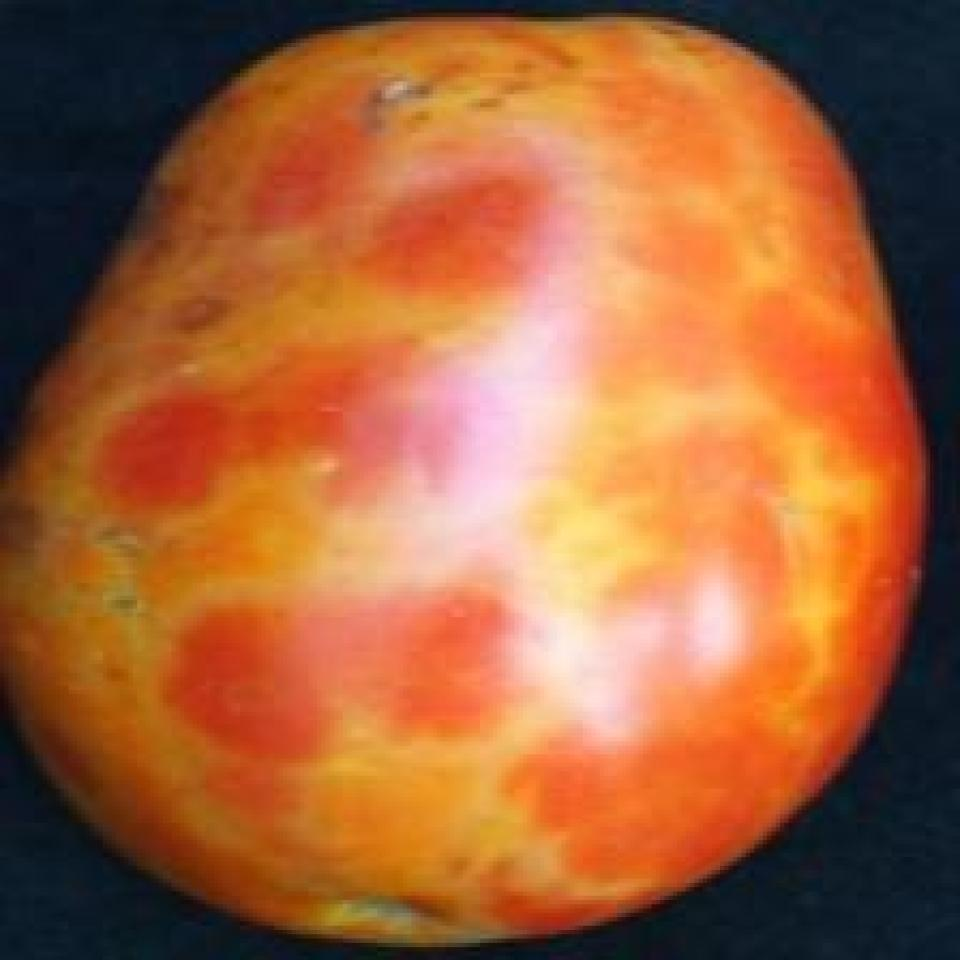Spotted wilt Virus: (5, 15, 924, 949)
